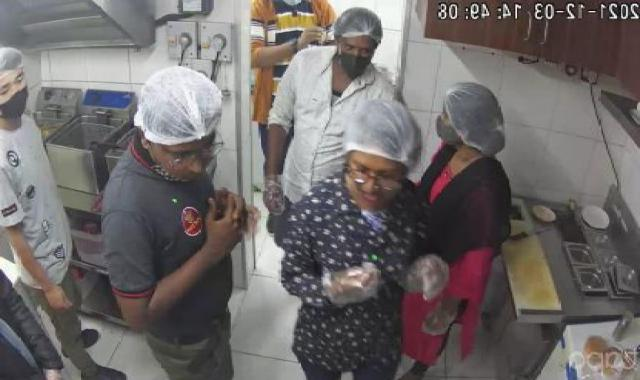hairnet: (133, 65, 230, 159), (329, 98, 437, 172), (431, 78, 514, 153), (306, 4, 408, 60), (0, 36, 59, 107)
